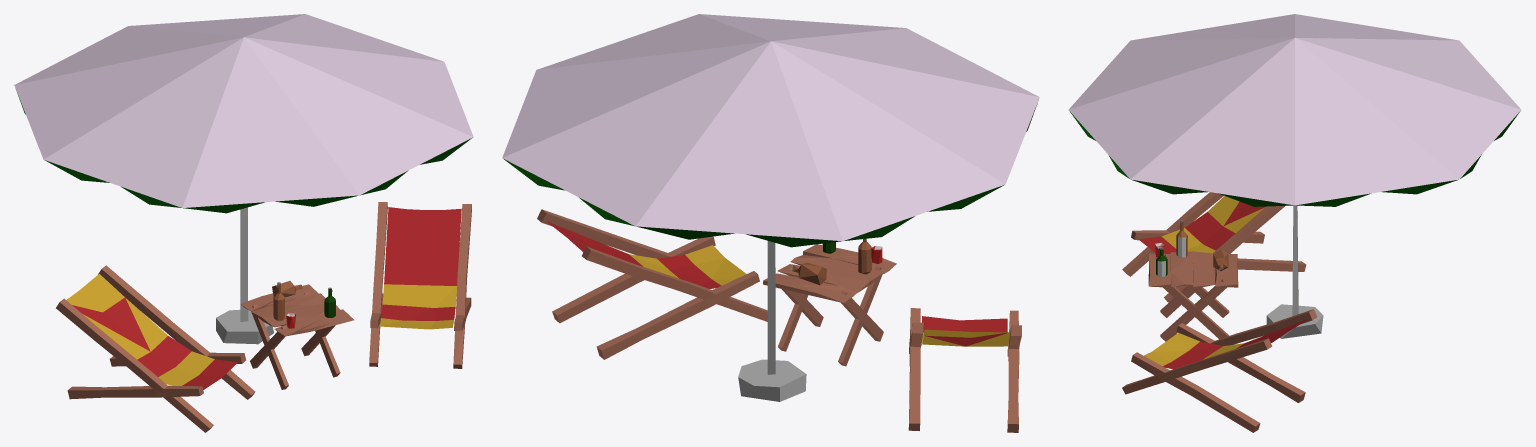
The model's file is summer scene.fbx.
3 views of the same model, side by side, from view 1: azimuth 30°, elevation 25°; view 2: azimuth 150°, elevation 25°; view 3: azimuth 270°, elevation 25° (orthographic). The views are drawn at different scales.
Parts seen in each view (by area): view 1: Plane.001, Cube.004, Cube.001, Cube.010, Cylinder.002; view 2: Plane.001, Cube.001, Cube.010, Cube.004, Cylinder.002, Cylinder; view 3: Plane.001, Cube.001, Cube.004, Cube.010, Cylinder.002.
Part boxes in pixels (x1=…): Plane.001: x1=14, y1=14, x2=473, y2=213; Cube.004: x1=56, y1=265, x2=255, y2=432; Cube.001: x1=369, y1=202, x2=471, y2=368; Cube.010: x1=240, y1=284, x2=354, y2=389; Cylinder.002: x1=216, y1=207, x2=273, y2=344; Plane.001: x1=502, y1=14, x2=1039, y2=247; Cube.001: x1=537, y1=209, x2=767, y2=359; Cube.010: x1=763, y1=244, x2=896, y2=366; Cube.004: x1=908, y1=308, x2=1021, y2=432; Cylinder.002: x1=738, y1=241, x2=806, y2=401; Cylinder: x1=790, y1=262, x2=826, y2=285; Plane.001: x1=1068, y1=14, x2=1521, y2=206; Cube.001: x1=1122, y1=309, x2=1317, y2=432; Cube.004: x1=1122, y1=192, x2=1306, y2=302; Cube.010: x1=1148, y1=251, x2=1238, y2=341; Cylinder.002: x1=1266, y1=205, x2=1323, y2=338.
Size of the model in its own units: 900 by 628 by 869.
